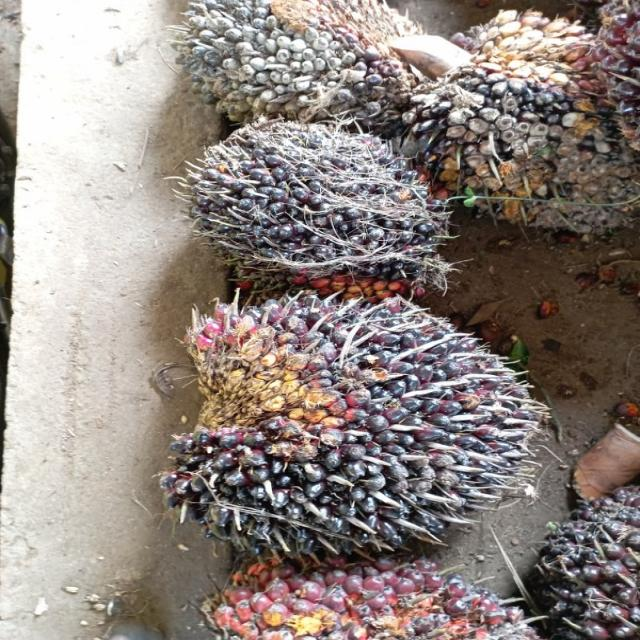fraksi 00: (175, 290, 547, 566), (186, 115, 466, 296), (407, 24, 640, 232), (176, 0, 402, 119)
